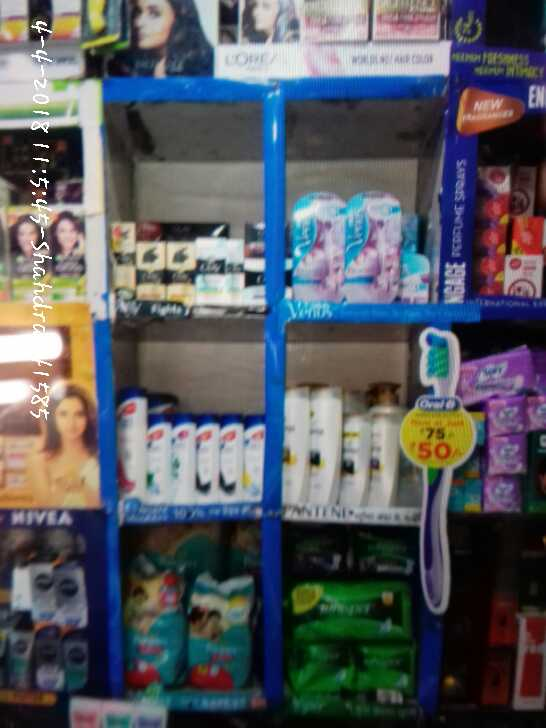venus: (298, 188, 348, 301), (348, 193, 400, 301), (401, 251, 428, 300)
